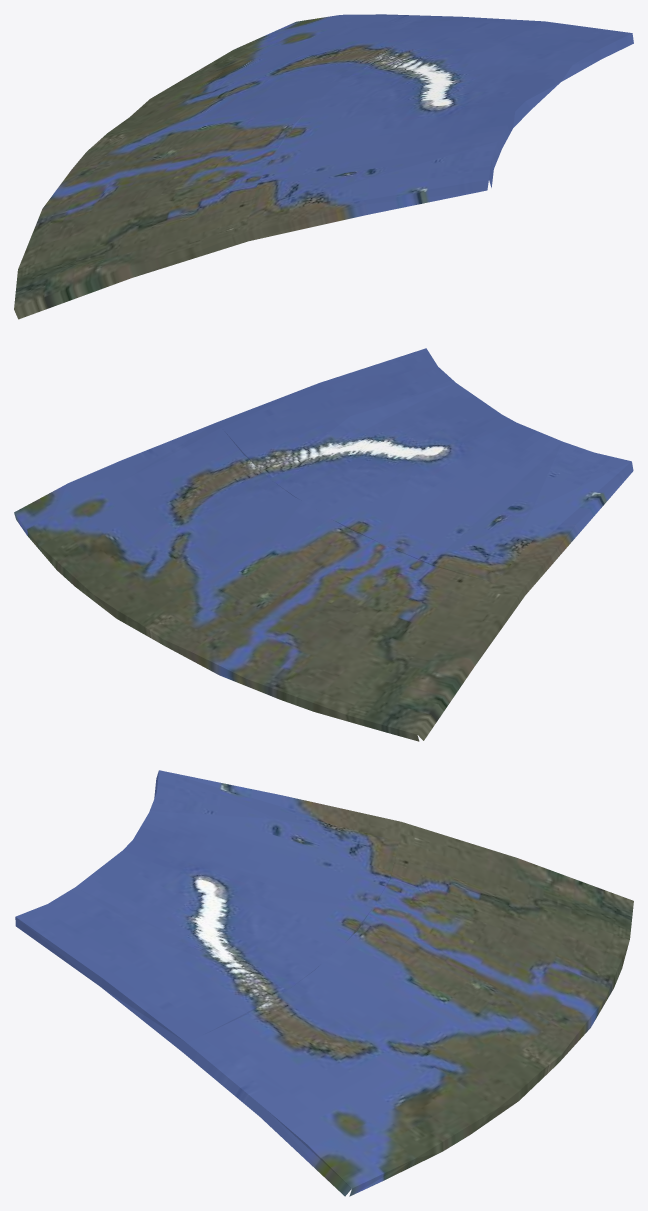
The picture shows the model from 3 angles, top to bottom: view 1: azimuth 90°, elevation 25°; view 2: azimuth 150°, elevation 25°; view 3: azimuth 270°, elevation 25°; orthographic projection. The views are drawn at different scales.
Size of the model in its own units: 1750136 by 391134 by 1579502.
Materials: 1 (1 with a texture image).
